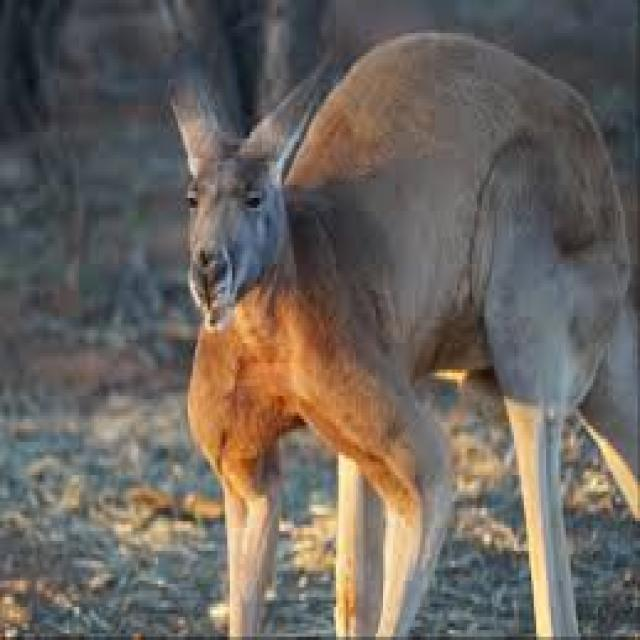Kangaroo: (150, 6, 640, 640)
